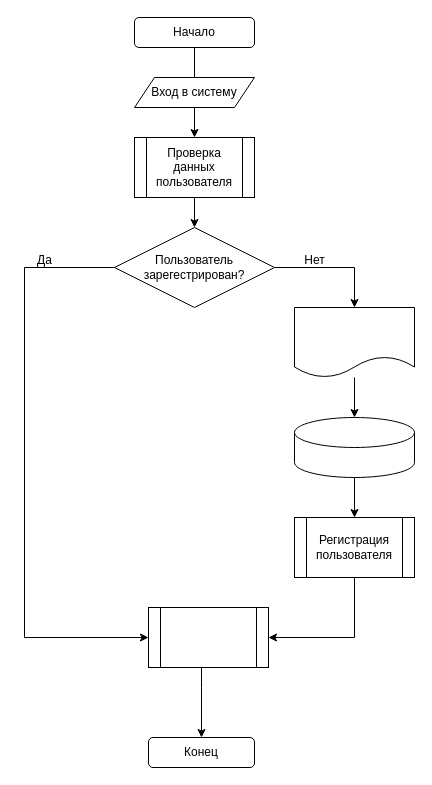
Image size: 432x785. Some labels were removed from this diagram. Here are the shapes that lost their labels. From the top down, the centre of each, then its label:
pixel 354 342: Форма регистрации
pixel 354 447: БД пользователей
pixel 208 637: Просмотр сайта
